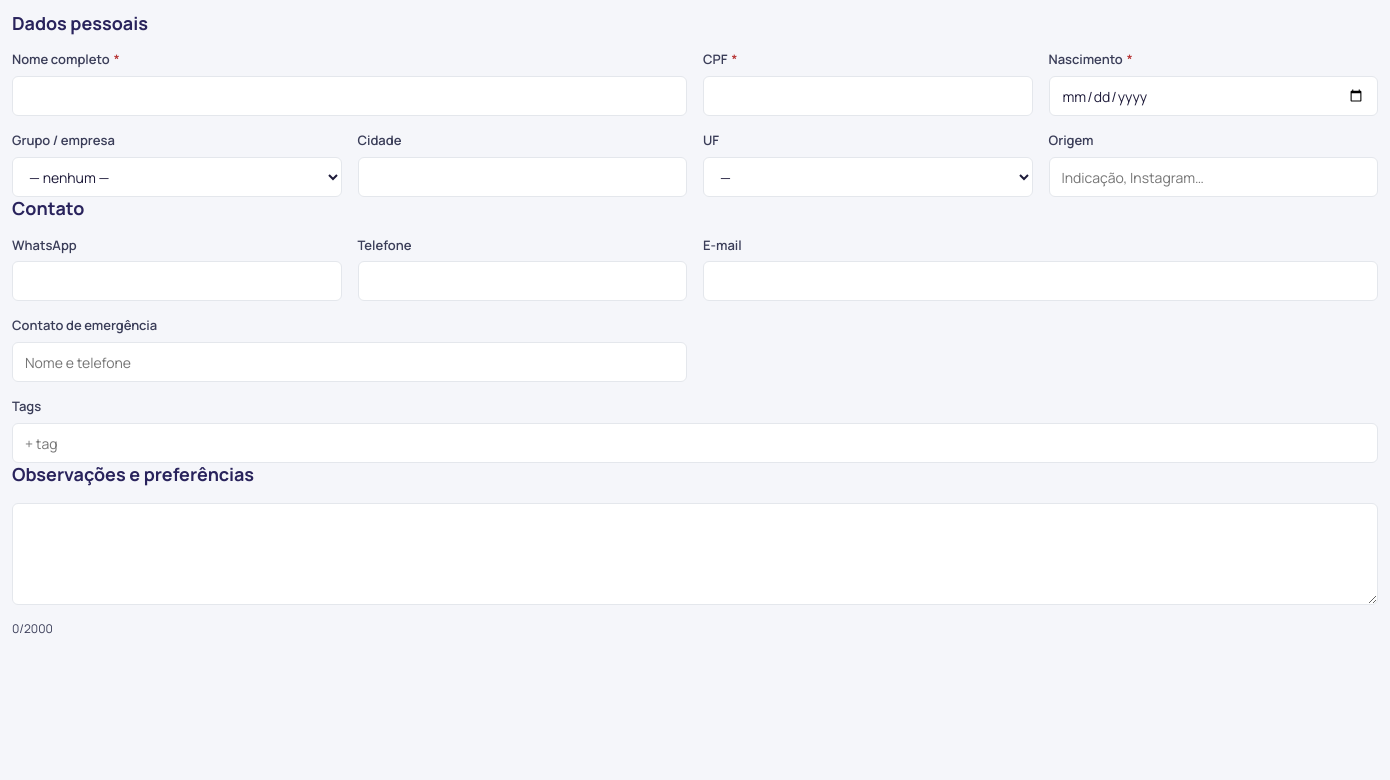
Test case: CPF com dígito verificador inválido mostra erro local
Type "123.456.789-00" into the field labelled "CPF *" at (868, 96), box [703, 76, 1032, 116]
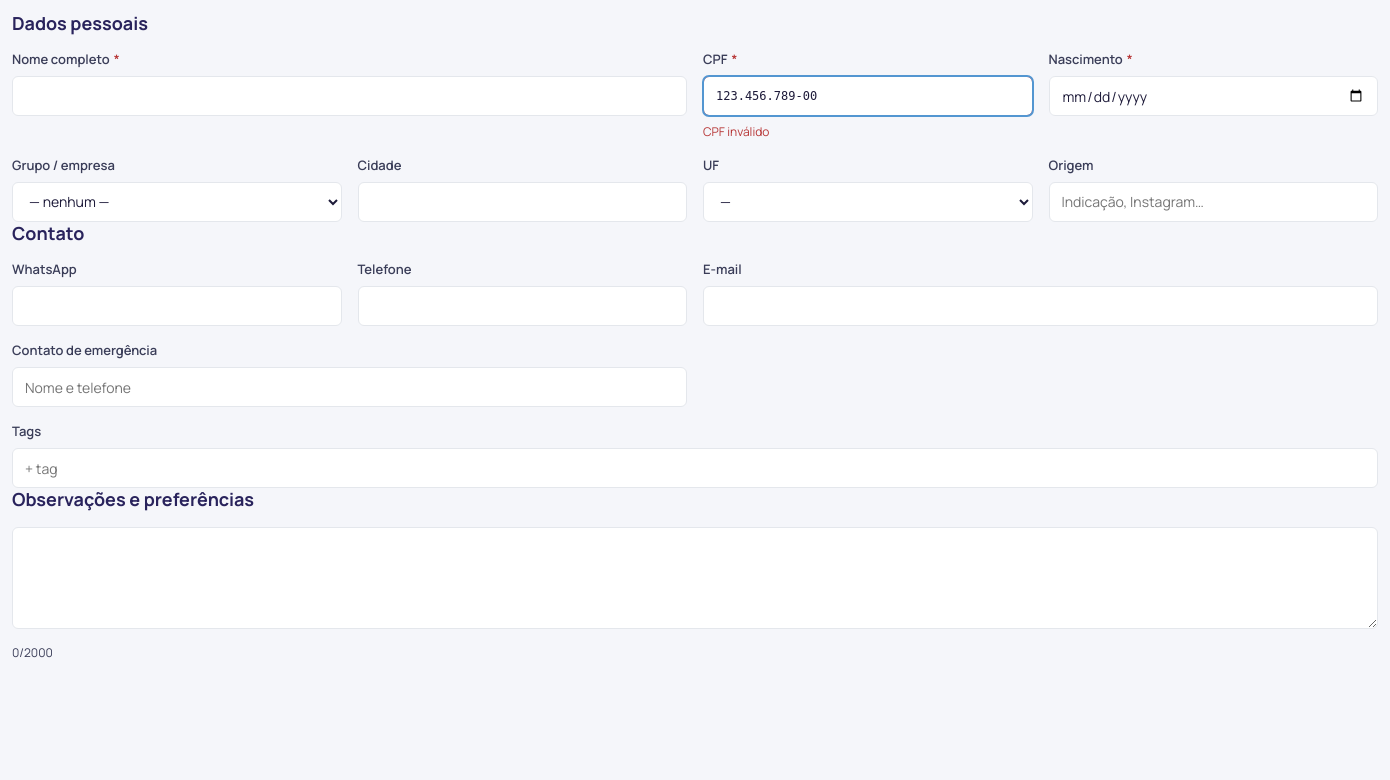
Expected: the text "CPF inválido" is shown, [703, 123, 769, 140]
